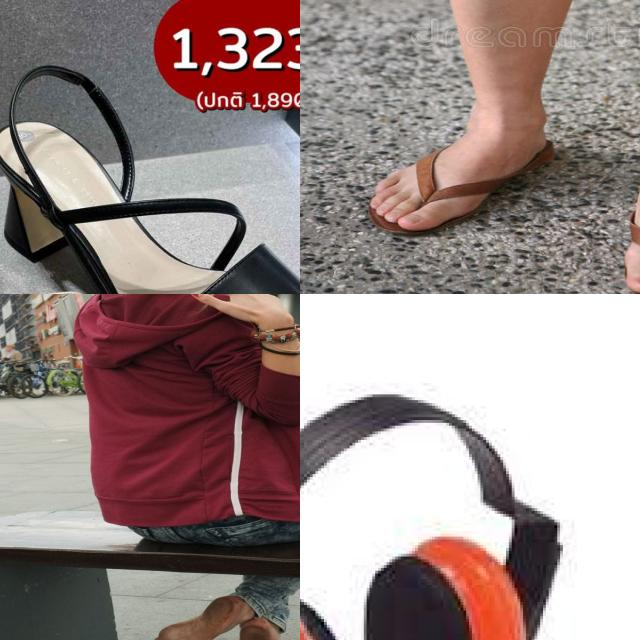Barefoots: (154, 595, 244, 640), (231, 618, 285, 640)
Ear-protection: (300, 420, 576, 640)
Sandals: (0, 61, 300, 294), (0, 105, 252, 294), (360, 96, 555, 235)
